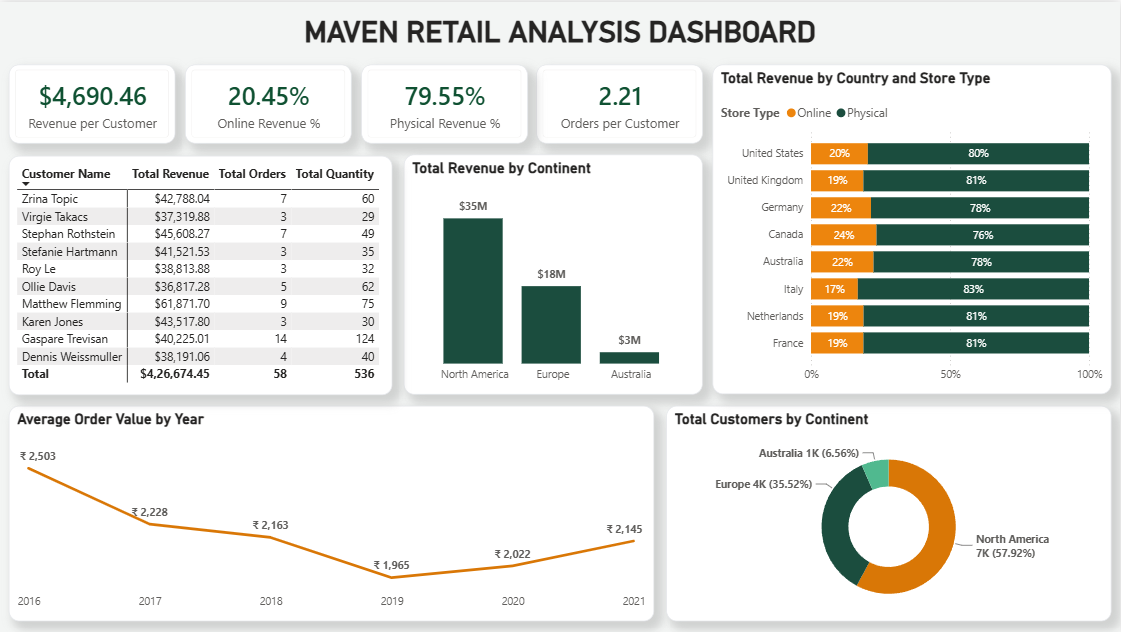

Layout of this report page (visuals, bound fields, positions):
{"tool":"powerbi","page":{"name":"Customer & Store Insights","canvas":[1280,720],"ordinal":2},"visuals":[{"type":"cardVisual","fields":{"Data":["_Measures.Revenue per Customer"]},"box":[10,71.4,190,90],"z":0},{"type":"cardVisual","fields":{"Data":["_Measures.Average Customer Spend"]},"box":[612.5,71.2,190,90],"z":1000},{"type":"cardVisual","fields":{"Data":["_Measures.Online Revenue %"]},"box":[211.2,71.2,190,90],"z":2000},{"type":"cardVisual","fields":{"Data":["_Measures.Physical Revenue %"]},"box":[412.5,71.2,190,90],"z":3000},{"type":"textbox","box":[10,10,1260,61.4],"z":4000},{"type":"clusteredColumnChart","fields":{"Category":["Customers.Continent"],"Y":["_Measures.Total Revenue"]},"box":[460.8,175,341.7,274.2],"z":5000},{"type":"lineChart","fields":{"Category":["DimDate.Year"],"Y":["_Measures.Average Order Value"]},"box":[10,461.7,737.5,246.7],"z":6000},{"type":"pivotTable","title":"Top 10 Customers by Revenue","fields":{"Rows":["Customers.Name"],"Values":["_Measures.Total Revenue","_Measures.Total Orders","_Measures.Total Quantity"]},"box":[10,175.8,438.3,273.3],"z":7000},{"type":"donutChart","fields":{"Category":["Customers.Continent"],"Y":["_Measures.Total Customers"]},"box":[760.8,461.7,509.2,246.7],"z":8000},{"type":"hundredPercentStackedBarChart","fields":{"Category":["Customers.Country"],"Y":["_Measures.Total Revenue"],"Series":["Stores.Store Type"]},"box":[814.3,71.4,455.7,377.1],"z":9000}]}

Visuals, with their boxes in screenshot pixels (x1, y1, x2, y2), scaled from the page's 1280x720 canvas onto the 1121x632 screenshot:
cardVisual - _Measures.Revenue per Customer: locate(9, 63, 175, 142)
cardVisual - _Measures.Average Customer Spend: locate(536, 62, 703, 141)
cardVisual - _Measures.Online Revenue %: locate(185, 62, 351, 141)
cardVisual - _Measures.Physical Revenue %: locate(361, 62, 528, 141)
textbox: locate(9, 9, 1112, 63)
clusteredColumnChart - Customers.Continent x _Measures.Total Revenue: locate(404, 154, 703, 394)
lineChart - DimDate.Year x _Measures.Average Order Value: locate(9, 405, 655, 622)
"Top 10 Customers by Revenue" pivotTable: locate(9, 154, 393, 394)
donutChart - Customers.Continent x _Measures.Total Customers: locate(666, 405, 1112, 622)
hundredPercentStackedBarChart - Customers.Country x _Measures.Total Revenue: locate(713, 63, 1112, 394)
